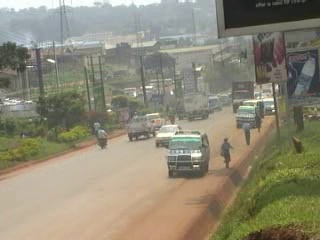Car: (153, 121, 180, 148), (141, 112, 169, 128)
Motorcycle: (95, 128, 109, 150), (167, 105, 176, 124)
